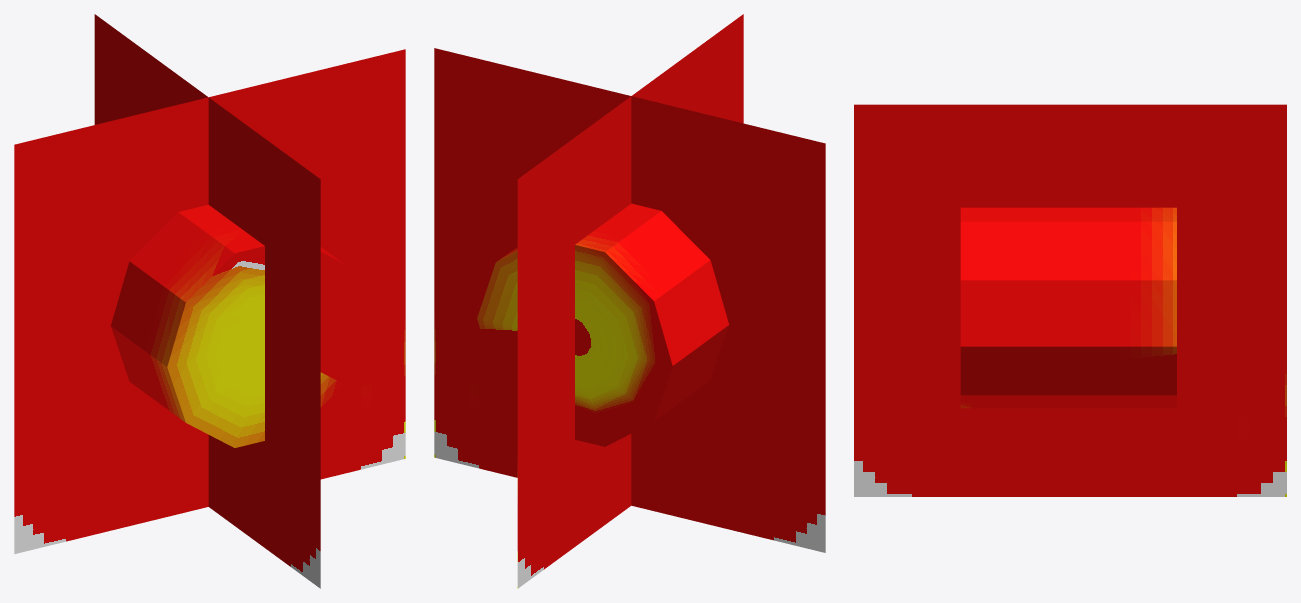
Rendered from rocket__zingitem.glb.
3 renders of one model, left to right at view 1: azimuth 30°, elevation 25°; view 2: azimuth 150°, elevation 25°; view 3: azimuth 270°, elevation 25°, orthographic. The views are drawn at different scales.
Visible parts, largest first — view 1: polySurface1; view 2: polySurface1; view 3: polySurface1.
Boxes of the visible parts, left/top/right/bottom form: polySurface1: left=14, top=14, right=405, bottom=588; polySurface1: left=434, top=14, right=825, bottom=588; polySurface1: left=854, top=104, right=1286, bottom=496.
Bounding box in the file's own units: 4 × 4 × 4.
1 material, 1 textured.
